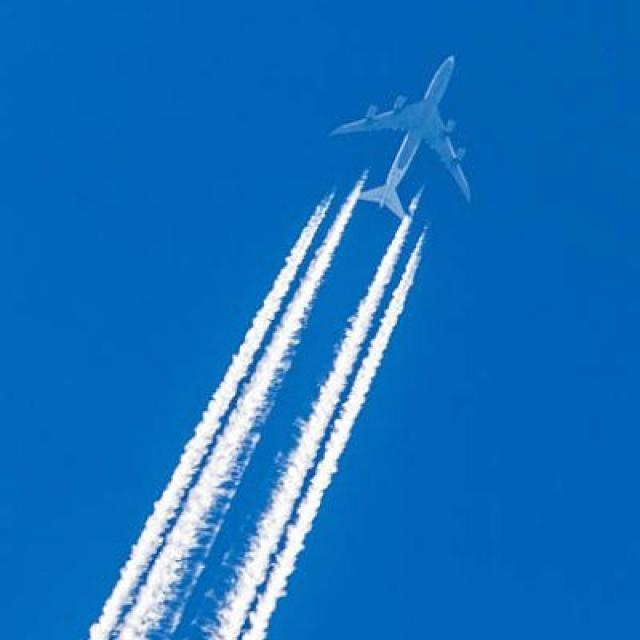Ct: (76, 227, 448, 633)
